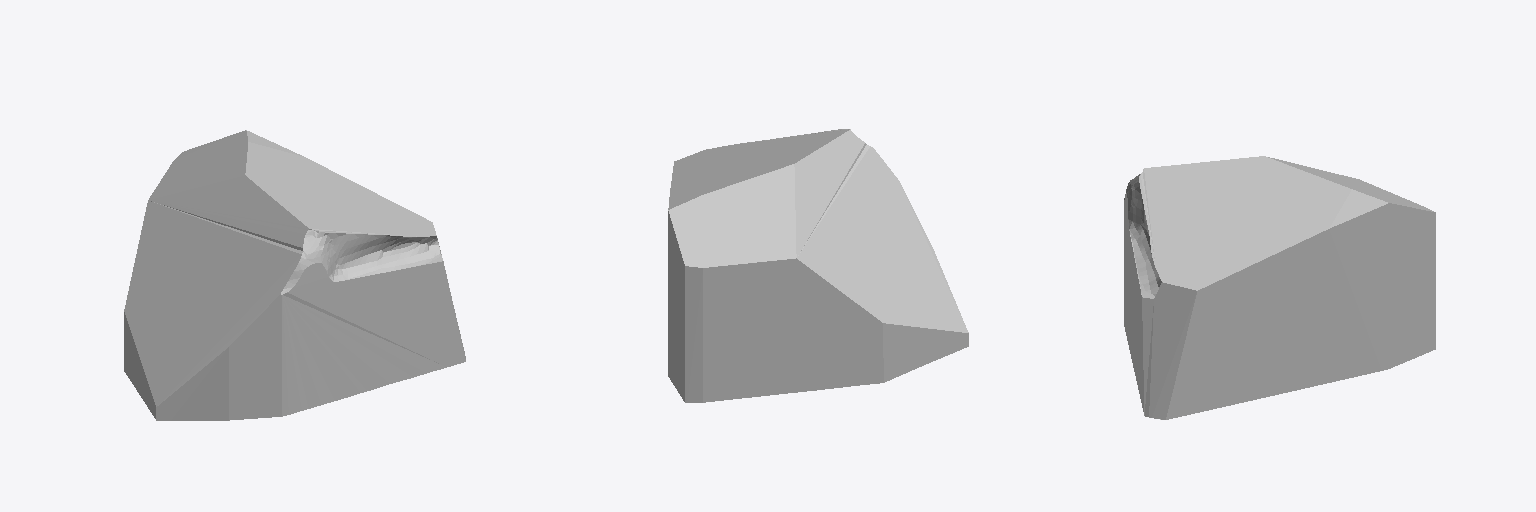
File: low_cell_097.obj
3 renders of one model, left to right at view 1: azimuth 30°, elevation 25°; view 2: azimuth 150°, elevation 25°; view 3: azimuth 270°, elevation 25°, orthographic.
Visible parts, largest first — view 1: low_cell.097_low_cell.096; view 2: low_cell.097_low_cell.096; view 3: low_cell.097_low_cell.096.
Part boxes in pixels (left/top/right/bottom): low_cell.097_low_cell.096: left=124, top=130, right=465, bottom=420; low_cell.097_low_cell.096: left=668, top=129, right=968, bottom=402; low_cell.097_low_cell.096: left=1124, top=156, right=1435, bottom=419.
Bounding box in the file's own units: 0.8617 × 0.4986 × 0.7769.